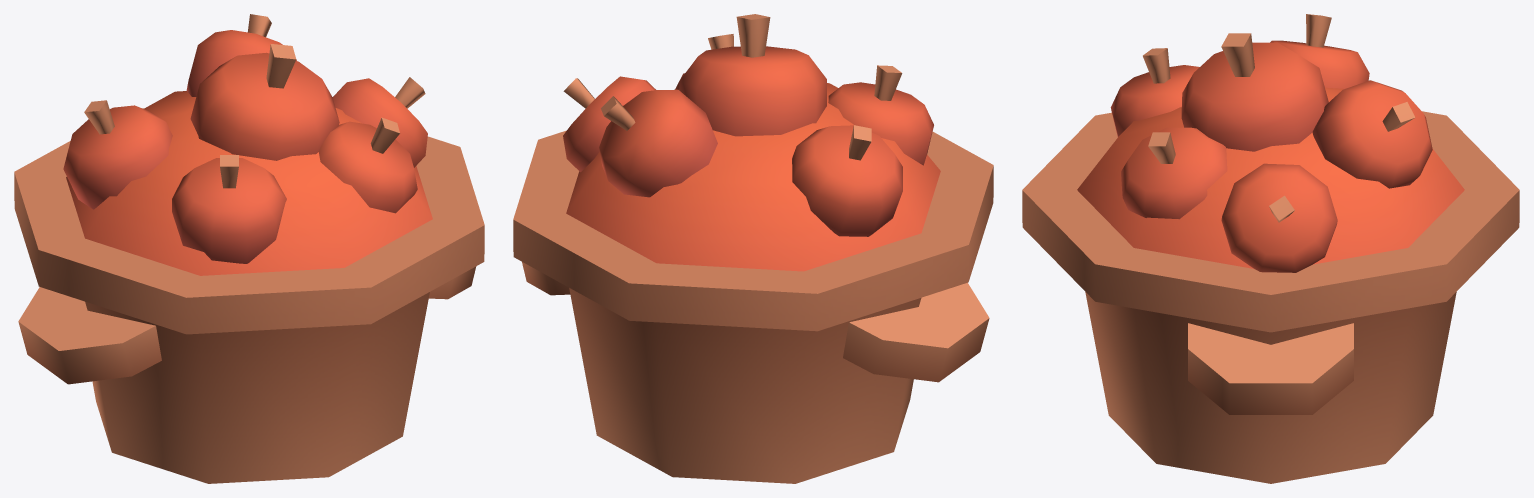
Rendered from display-fruit.glb.
The picture shows the model from 3 angles, left to right: view 1: azimuth 30°, elevation 25°; view 2: azimuth 150°, elevation 25°; view 3: azimuth 270°, elevation 25°; orthographic projection. The views are drawn at different scales.
Parts seen in each view (by area): view 1: display-fruit; view 2: display-fruit; view 3: display-fruit.
Part boxes in pixels (left/top/right/bottom): display-fruit: left=14, top=14, right=484, bottom=483; display-fruit: left=513, top=14, right=993, bottom=483; display-fruit: left=1022, top=14, right=1519, bottom=483.
Bounding box in the file's own units: 0.6 × 0.516 × 0.6.
1 material, 1 textured.
